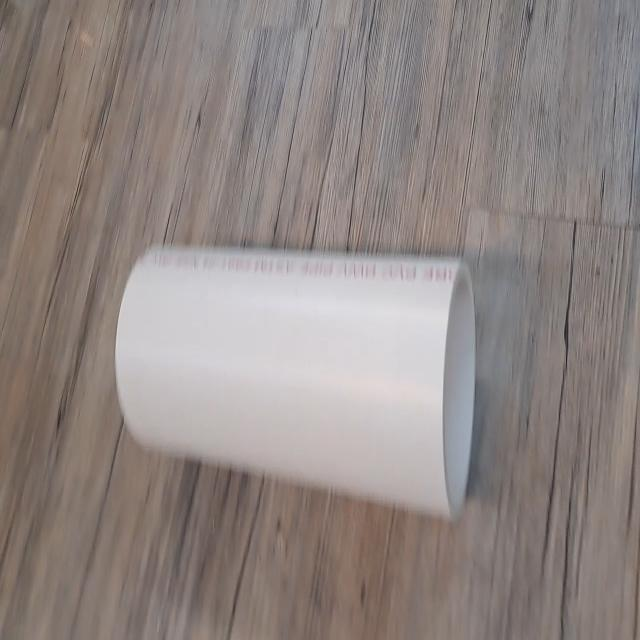CORAL: (106, 240, 482, 533)
